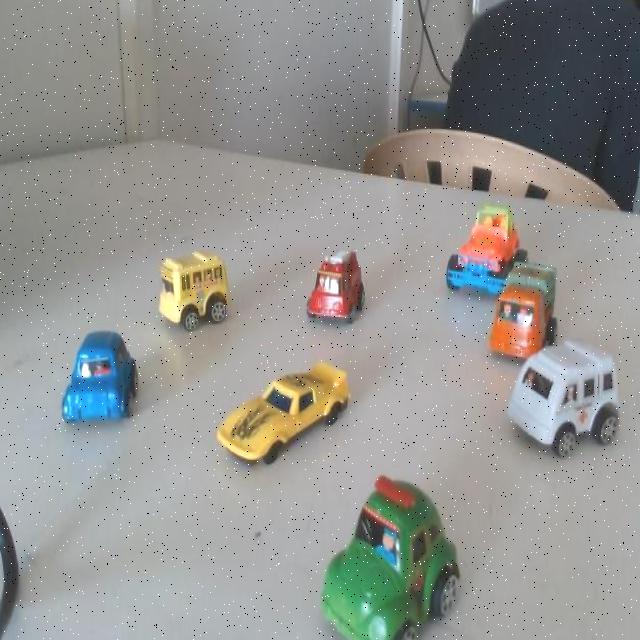car: (298, 469, 480, 640), (490, 317, 622, 480), (218, 355, 346, 472), (154, 248, 238, 344), (435, 197, 514, 298), (490, 253, 555, 368), (59, 334, 134, 432), (304, 240, 375, 342)
